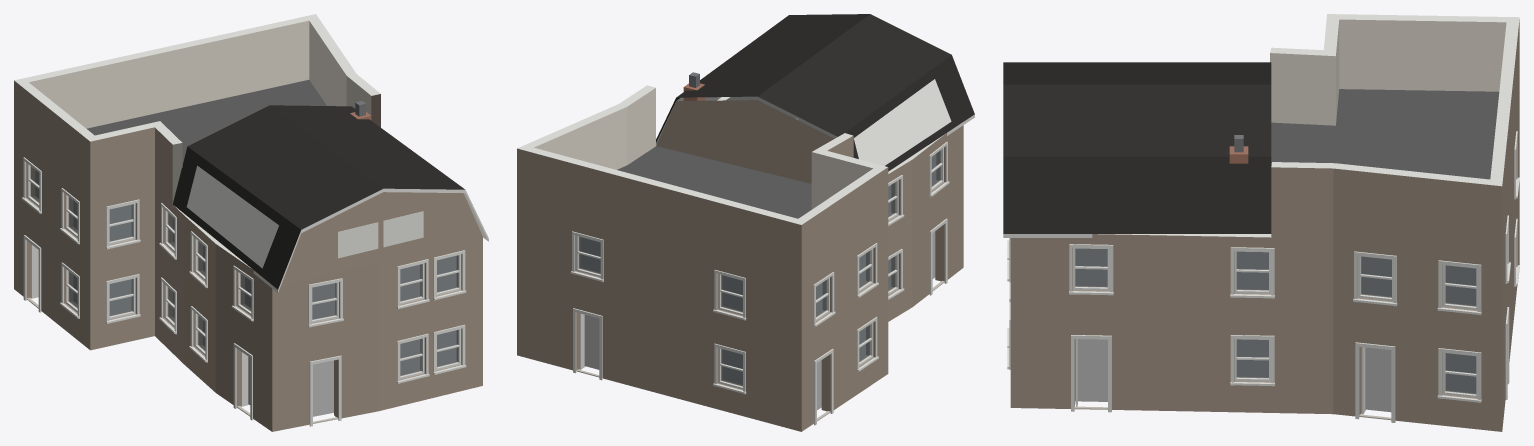
File: exterior.glb
3 renders of one model, left to right at view 1: azimuth 30°, elevation 25°; view 2: azimuth 150°, elevation 25°; view 3: azimuth 270°, elevation 25°, orthographic. The views are drawn at different scales.
Parts seen in each view (by area): view 1: shell, roof, gable, trim, glazing, shadow-proxy, frames, doors; view 2: shell, roof, gable, trim, shadow-proxy, glazing, frames, doors; view 3: shell, roof, shadow-proxy, trim, glazing, frames, doors.
Part boxes in pixels (<box>): shell: <box>14,14,482,431</box>; roof: <box>87,80,488,292</box>; gable: <box>281,192,482,285</box>; trim: <box>21,101,466,426</box>; glazing: <box>30,166,457,375</box>; shadow-proxy: <box>35,170,456,416</box>; frames: <box>27,163,461,379</box>; doors: <box>26,244,338,423</box>; shell: <box>517,85,963,431</box>; roof: <box>617,14,974,218</box>; gable: <box>656,100,834,183</box>; trim: <box>570,72,949,425</box>; shadow-proxy: <box>581,154,935,410</box>; glazing: <box>579,150,940,386</box>; frames: <box>576,148,943,389</box>; doors: <box>576,281,944,421</box>; shell: <box>1010,14,1519,431</box>; roof: <box>1003,62,1499,237</box>; shadow-proxy: <box>1075,249,1475,412</box>; trim: <box>1007,131,1519,422</box>; glazing: <box>1075,248,1476,394</box>; frames: <box>1073,247,1477,397</box>; doors: <box>1074,339,1391,420</box>.
Size of the model in its own units: 11.01 by 7.88 by 13.87.
